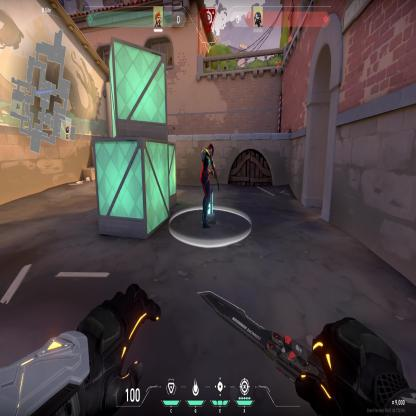enemy: (200, 141, 216, 233)
